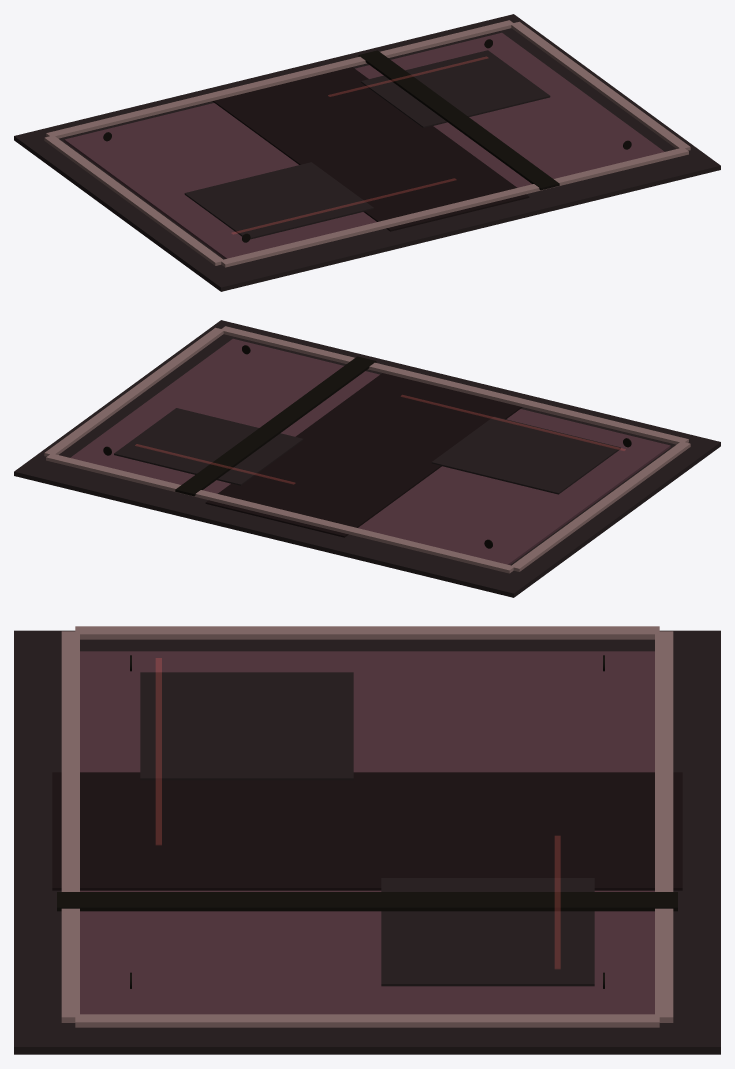
Rendered from hp_room_floor_tile_core.glb.
3 views of the same model, one above another, from view 1: azimuth 30°, elevation 25°; view 2: azimuth 150°, elevation 25°; view 3: azimuth 270°, elevation 25° (orthographic). The views are drawn at different scales.
Visible parts, largest first — view 1: core_floor_slab_base, core_floor_cyan_line_a; view 2: core_floor_slab_base, core_floor_cyan_line_a; view 3: core_floor_slab_base, core_floor_cyan_line_a.
Part boxes in pixels (left/top/right/bottom): core_floor_slab_base: left=14, top=14, right=720, bottom=291; core_floor_cyan_line_a: left=232, top=57, right=487, bottom=234; core_floor_slab_base: left=14, top=320, right=720, bottom=597; core_floor_cyan_line_a: left=135, top=395, right=625, bottom=484; core_floor_slab_base: left=14, top=626, right=720, bottom=1054; core_floor_cyan_line_a: left=156, top=658, right=560, bottom=968.
Size of the model in its own units: 4.25 by 0.1505 by 3.05.
2 materials, 2 textured.
